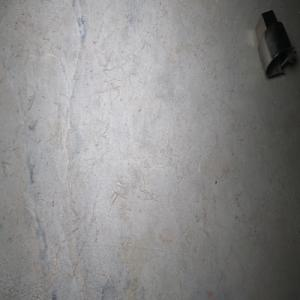MetalPart: (254, 8, 297, 77)
